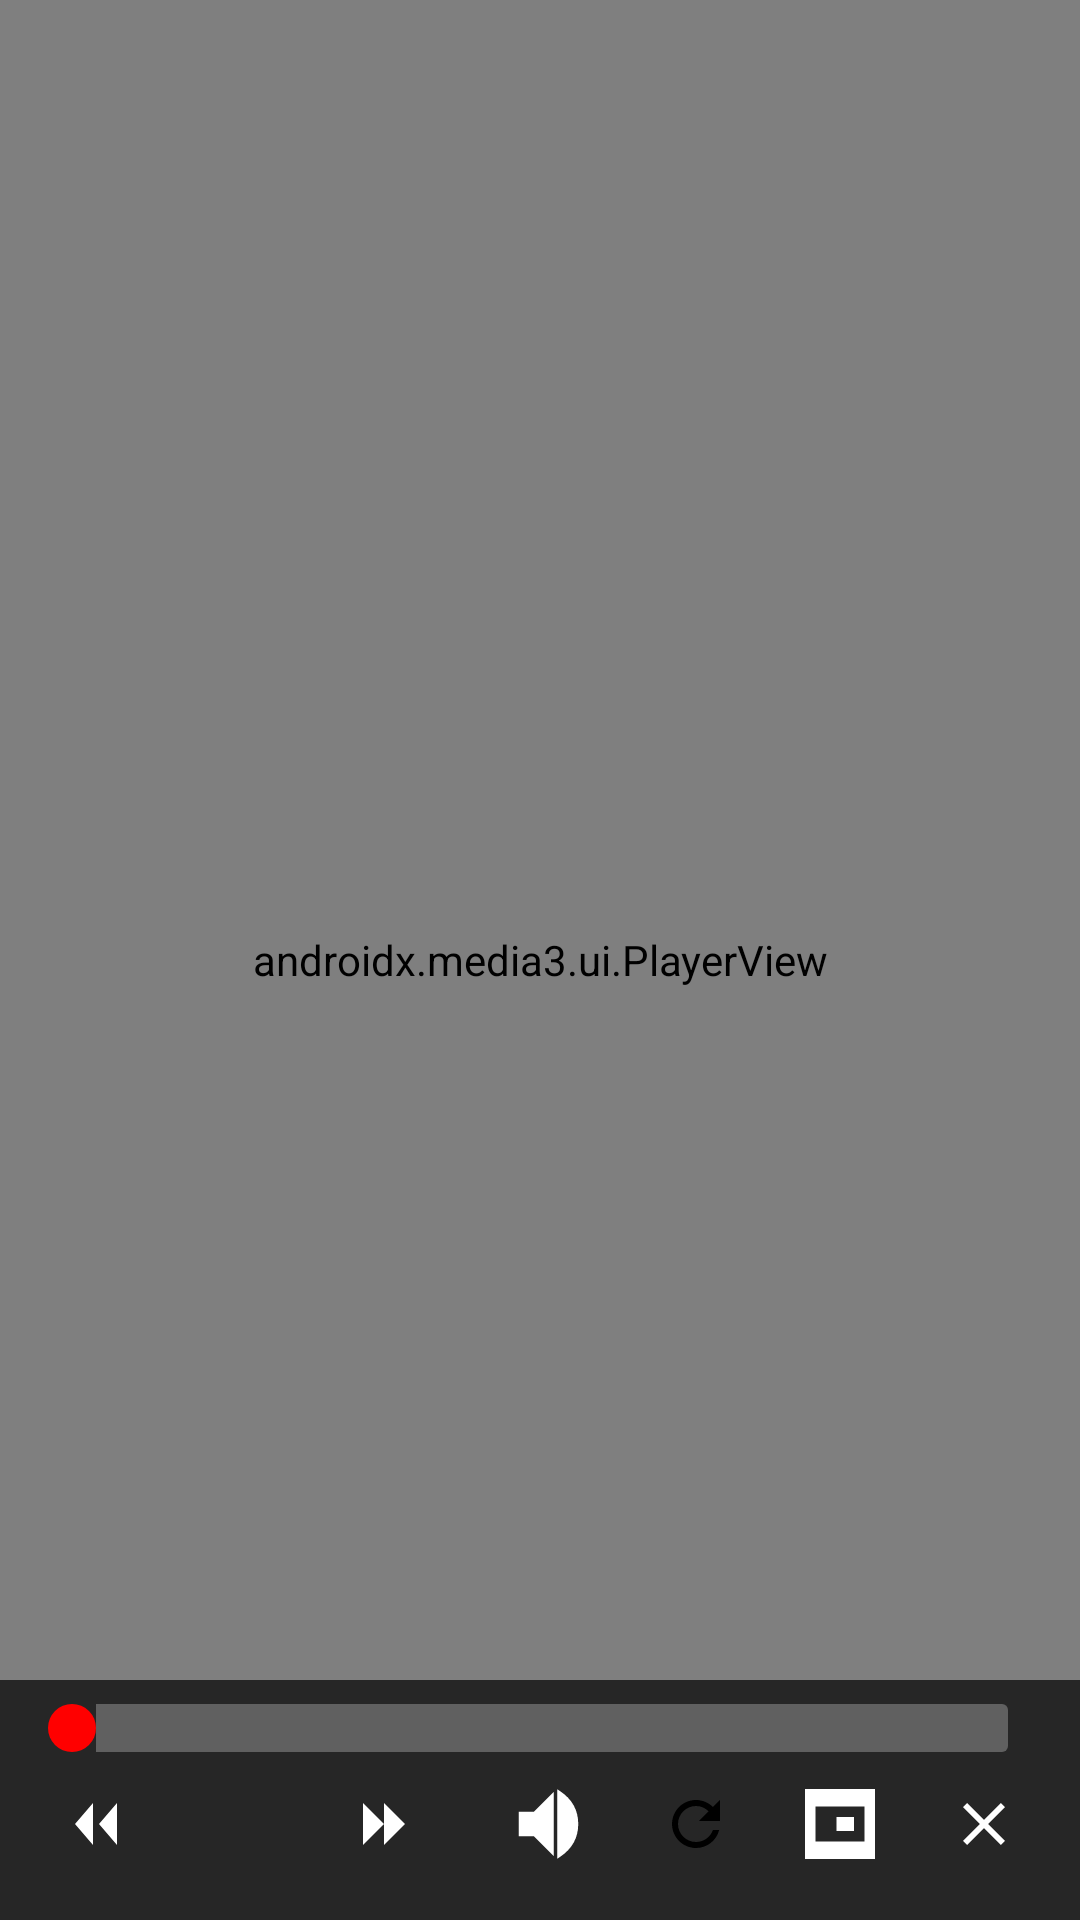

Where icons sit on this 1080 x 1920 app screen, as (x1,y1,x2,y2):
Adelantar: (363,1803,405,1845)
Cerrar: (963,1803,1005,1845)
Picture-in-Picture: (805,1789,875,1859)
Refrescar: (672,1800,720,1848)
Retroceder: (75,1803,117,1845)
Volumen: (518,1789,579,1859)
